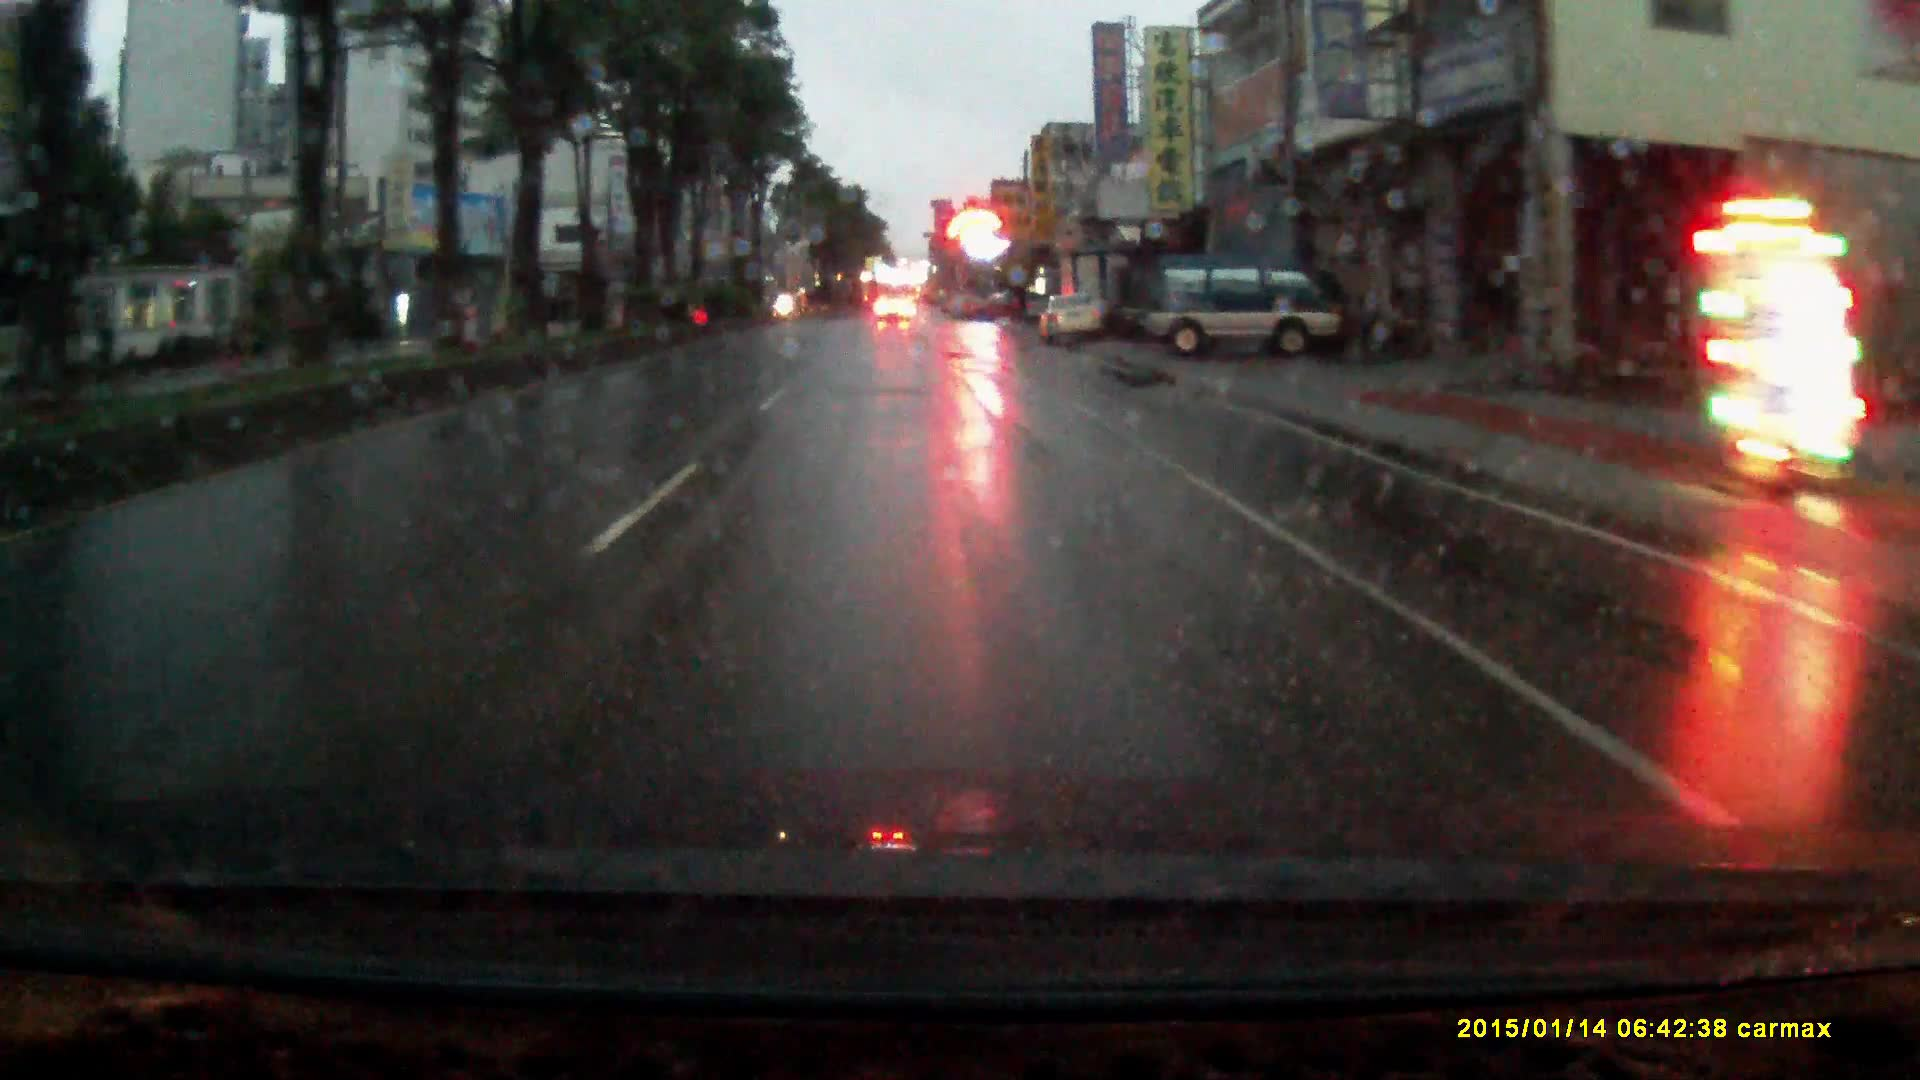vehicle: (1142, 253, 1364, 365), (1058, 249, 1134, 342), (1038, 291, 1105, 349), (876, 298, 914, 328)
